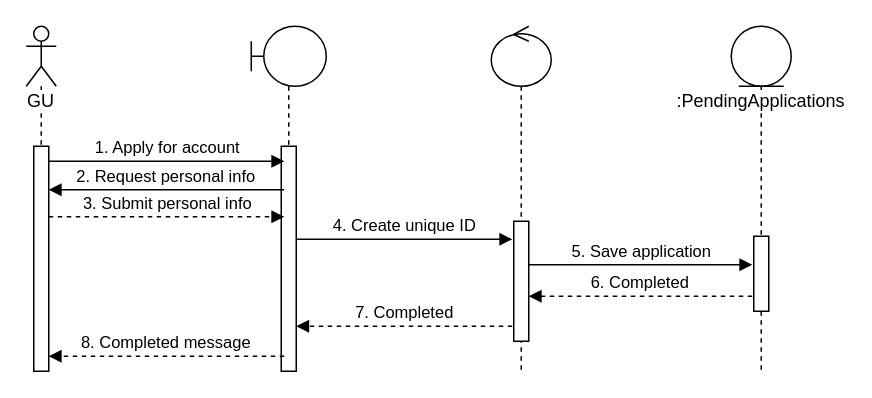
This 872x398 diagram has some shape labels left out. Each missing label, with the box of its shape:
:CreateNewUser: (490, 25, 551, 371)
:UserLoginAndSignUp: (250, 25, 326, 371)
